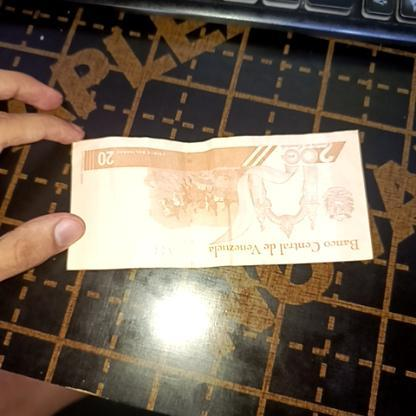twenty-back-vef: (66, 128, 374, 270)
